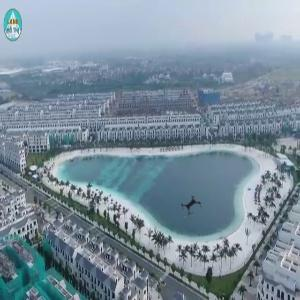drone: (173, 188, 212, 227)
